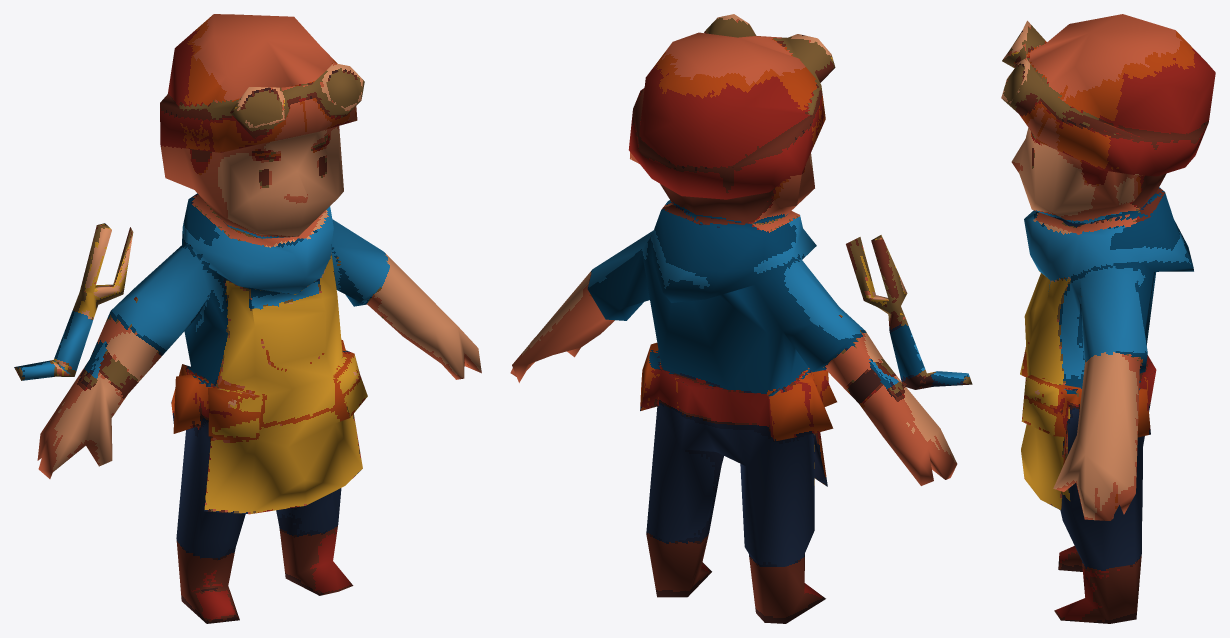
File: hero_tinker.glb
The picture shows the model from 3 angles, left to right: view 1: azimuth 30°, elevation 25°; view 2: azimuth 150°, elevation 25°; view 3: azimuth 270°, elevation 25°; orthographic projection.
Visible parts, largest first — view 1: hero_tinker; view 2: hero_tinker; view 3: hero_tinker.
Part boxes in pixels (bbox=[...]): hero_tinker: bbox=[14, 14, 481, 623]; hero_tinker: bbox=[510, 14, 972, 623]; hero_tinker: bbox=[1001, 14, 1215, 623].
Size of the model in its own units: 0.8524 by 0.9939 by 0.3455.
Materials: 1 (1 with a texture image).
